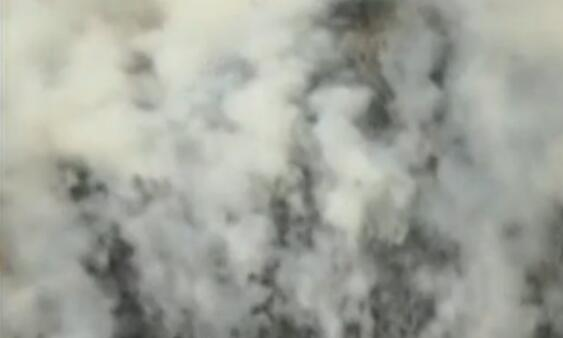yanwu: (1, 1, 560, 336)
